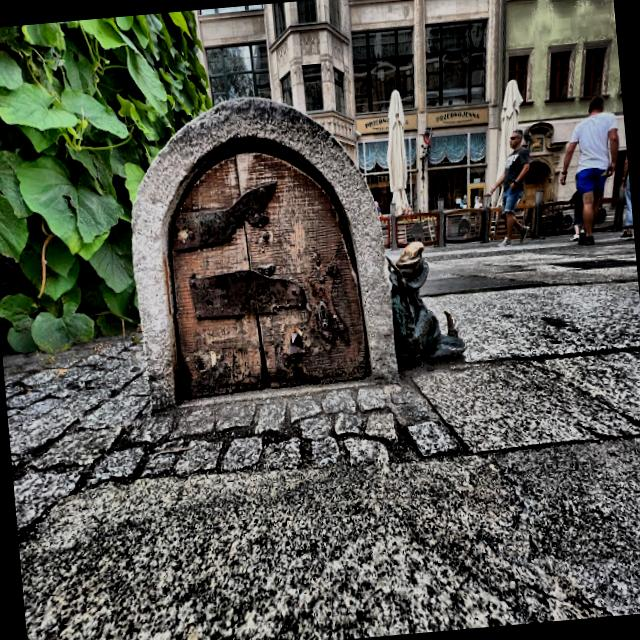Spioch: (388, 241, 464, 366)
